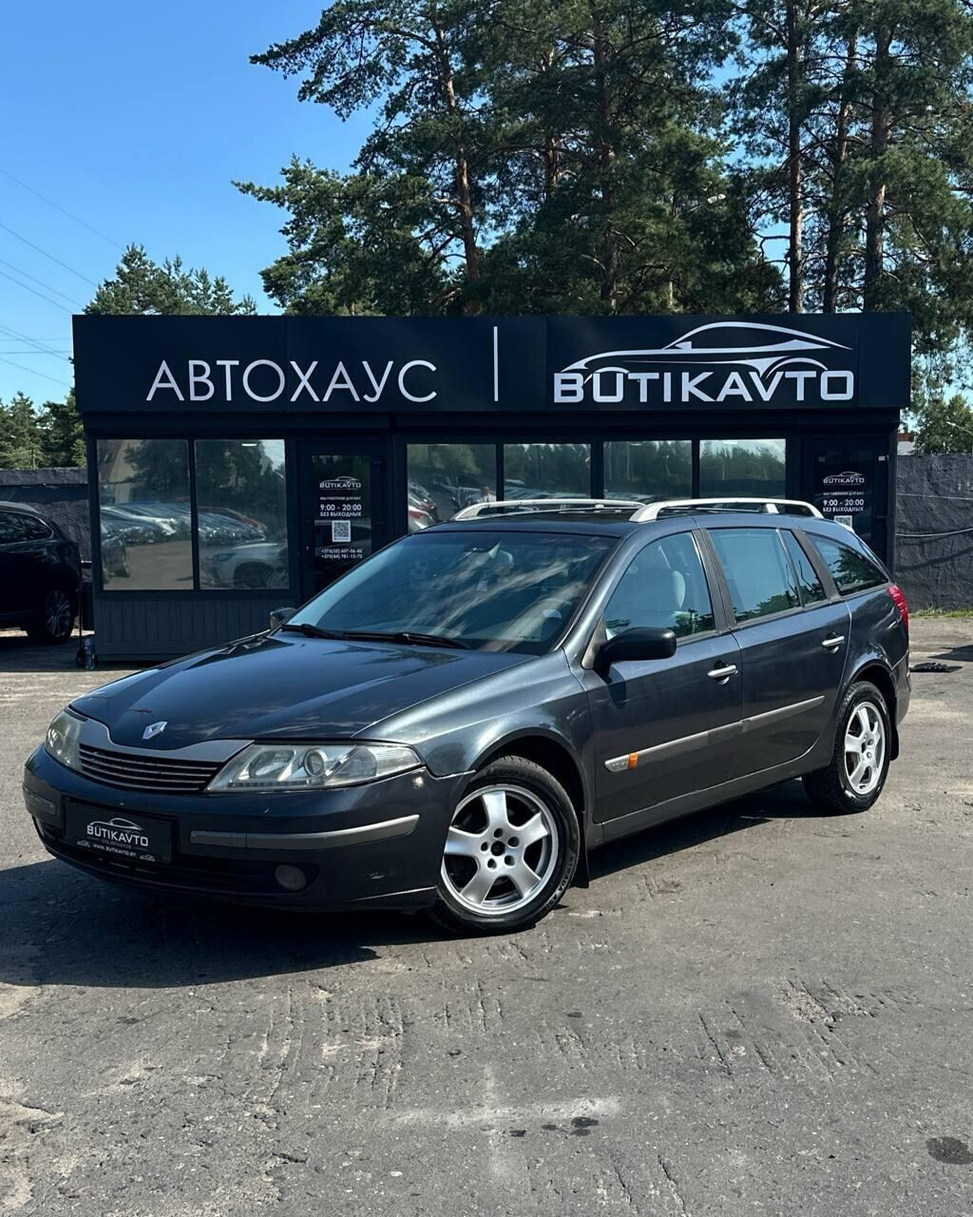Laguna_2001-2005: (24, 497, 910, 934)
